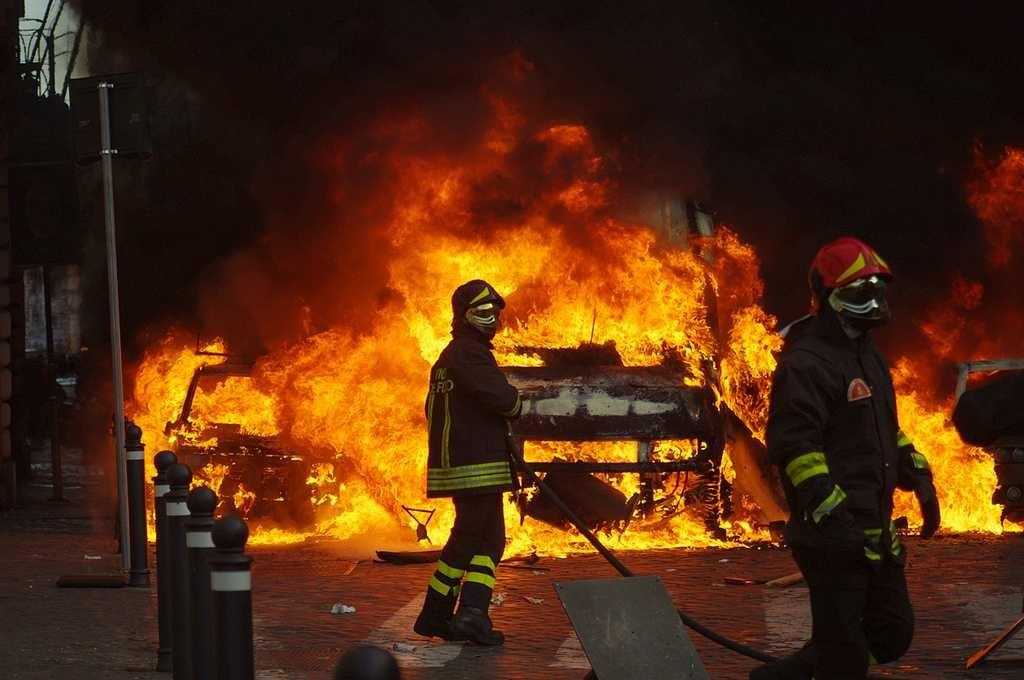fire: (515, 242, 695, 340), (303, 330, 425, 473), (407, 225, 492, 285), (938, 447, 993, 532)
smoke: (157, 135, 315, 255), (173, 10, 378, 93)
